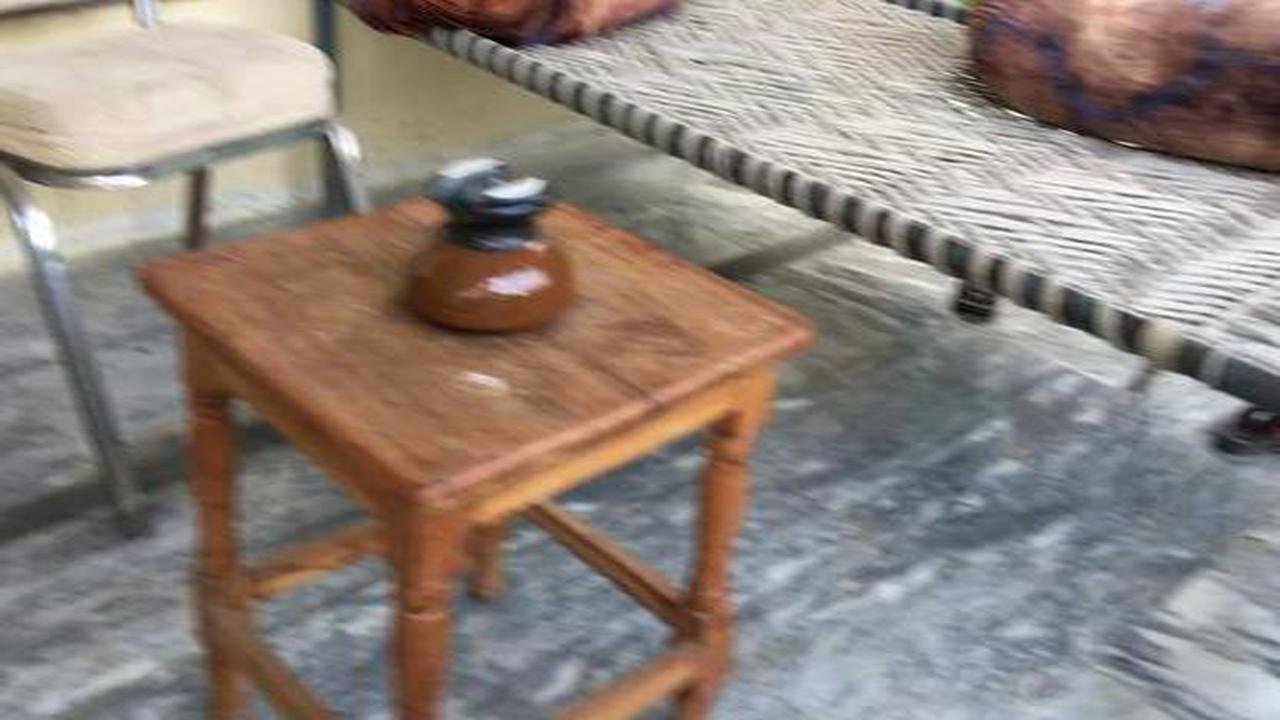insulator_pin: (382, 145, 582, 352)
